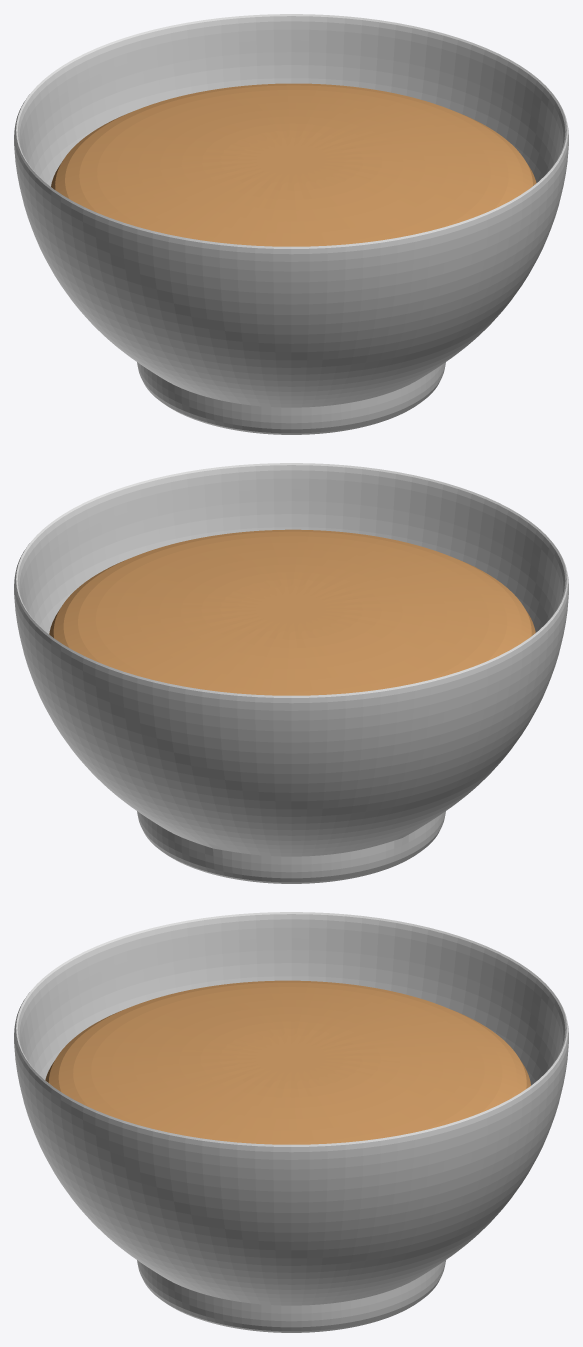
Rendered from ramen_soup(bowl).fbx.
3 renders of one model, top to bottom at view 1: azimuth 30°, elevation 25°; view 2: azimuth 150°, elevation 25°; view 3: azimuth 270°, elevation 25°, orthographic.
Visible parts, largest first — view 1: 구체.008, 라멘 국물; view 2: 구체.008, 라멘 국물; view 3: 구체.008, 라멘 국물.
Part boxes in pixels (left/top/right/bottom): 구체.008: left=14, top=14, right=568, bottom=434; 라멘 국물: left=51, top=83, right=536, bottom=246; 구체.008: left=14, top=463, right=568, bottom=883; 라멘 국물: left=49, top=529, right=535, bottom=695; 구체.008: left=14, top=912, right=568, bottom=1332; 라멘 국물: left=45, top=980, right=530, bottom=1144.
Bounding box in the file's own units: 198 × 95.91 × 198.
